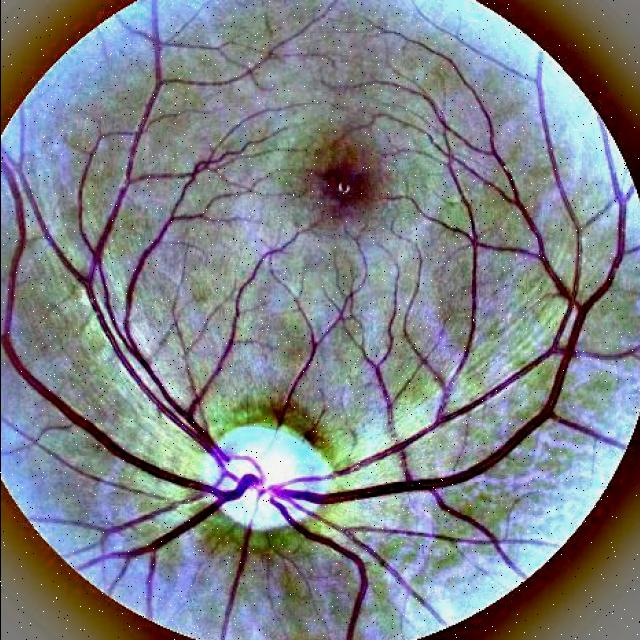Macula: (320, 166, 361, 206)
Nerves: (280, 472, 474, 505), (212, 474, 260, 508)
Optic Disk: (192, 429, 329, 534)
